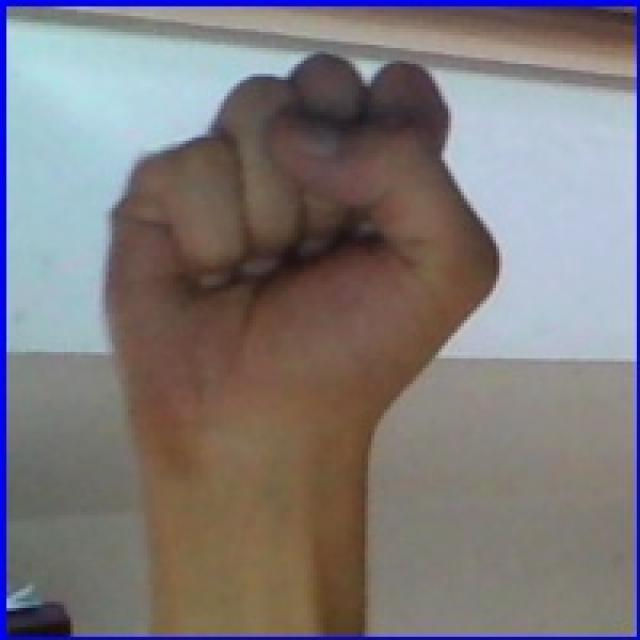Letra-S: (76, 23, 536, 450)
